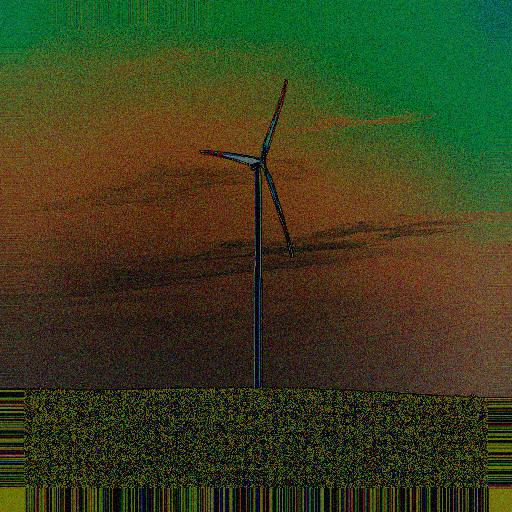wind turbine: (199, 80, 297, 389)
